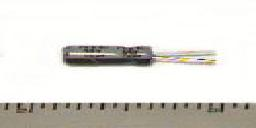Electrolytic Capacitor: (57, 43, 230, 75)
